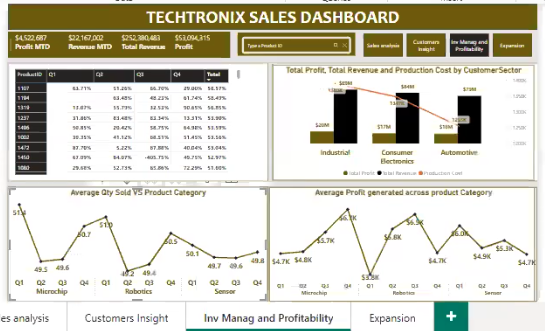

The page's visual inventory and layout, read from the dashboard file:
{"tool":"powerbi","page":{"name":"Inv Management and Profitability","canvas":[1280,720],"ordinal":2},"visuals":[{"type":"textbox","box":[0,0,1279,52.1],"z":0},{"type":"multiRowCard","fields":{"Values":["Measures (2).Profit MTD","Measures (2).Revenue MTD"]},"box":[0,65.1,258.9,69.7],"z":1000},{"type":"pageNavigator","box":[820.7,65.1,443.7,69.7],"z":2000},{"type":"pivotTable","fields":{"Rows":["ProductDim.ProductName"],"Columns":["CalendarDim.Quarter"],"Values":["Measures (2).Profit Margin"]},"box":[59.9,146.5,493,281.9],"z":3000},{"type":"lineClusteredColumnComboChart","fields":{"Category":["CustomerDim.CustomerSector"],"Y":["Measures (2).Total Profit","Measures (2).Total Revenue"],"Y2":["Measures (2).Production Cost"]},"box":[678.9,146.5,600.1,299.3],"z":4000},{"type":"lineChart","fields":{"Y":["Avg(Techtronix(Fact Table).QuantitySold)"],"Category":["ProductDim.ProductCategory","CalendarDim.Quarter"]},"box":[44.1,445.7,559.2,274.1],"z":5000},{"type":"lineChart","fields":{"Y":["Avg(Techtronix(Fact Table).Profit)"],"Category":["ProductDim.ProductCategory","CalendarDim.Quarter"]},"box":[678.9,445.7,600.1,274.1],"z":6000},{"type":"card","fields":{"Values":["Measures (2).Total Revenue"]},"box":[258.9,65.1,180.2,69.7],"z":7000},{"type":"card","fields":{"Values":["Sum(Techtronix(Fact Table).Profit)"]},"box":[439.1,65.1,159,69.7],"z":8000},{"type":"textSearchSlicerF85E2E78BE4A4D7D9F99ED75B5D71C85","fields":{"fields":["ProductDim.ProductID"]},"box":[602.7,65.1,210.5,69.7],"z":9000}]}

Visuals, with their boxes on the page's 1280x720 design canvas (x1, y1, x2, y2). These are canvas units, not pixel positions in the 545x331 screenshot, which may show the page scaled, cropped or inside an application window:
textbox: box=[0, 0, 1279, 52]
multiRowCard - Measures (2).Profit MTD x Measures (2).Revenue MTD: box=[0, 65, 259, 135]
pageNavigator: box=[821, 65, 1264, 135]
pivotTable - ProductDim.ProductName x CalendarDim.Quarter: box=[60, 146, 553, 428]
lineClusteredColumnComboChart - CustomerDim.CustomerSector x Measures (2).Total Profit: box=[679, 146, 1279, 446]
lineChart - Avg(Techtronix(Fact Table).QuantitySold) x ProductDim.ProductCategory: box=[44, 446, 603, 720]
lineChart - Avg(Techtronix(Fact Table).Profit) x ProductDim.ProductCategory: box=[679, 446, 1279, 720]
card - Measures (2).Total Revenue: box=[259, 65, 439, 135]
card - Sum(Techtronix(Fact Table).Profit): box=[439, 65, 598, 135]
textSearchSlicerF85E2E78BE4A4D7D9F99ED75B5D71C85 - ProductDim.ProductID: box=[603, 65, 813, 135]
